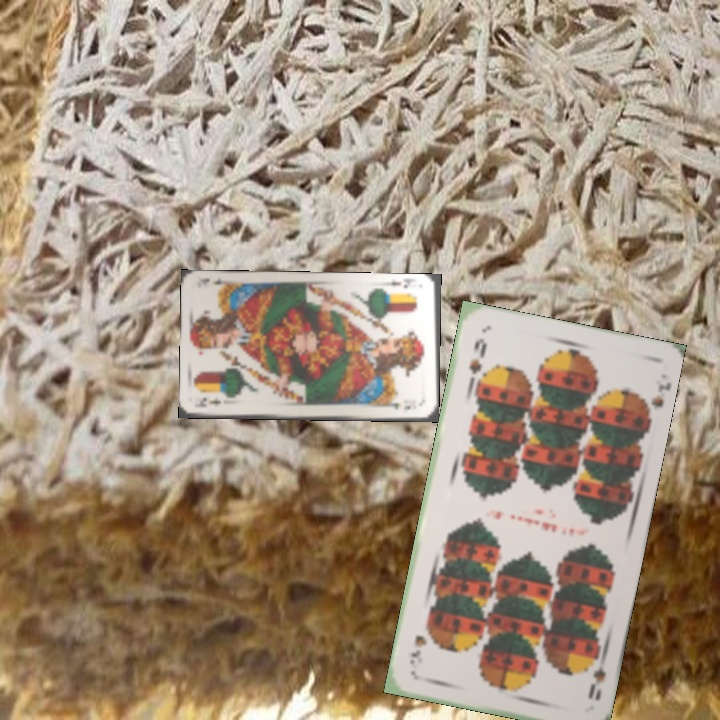EK: (194, 394, 224, 410), (384, 276, 418, 290)
S9: (584, 649, 609, 703), (465, 334, 489, 389)
